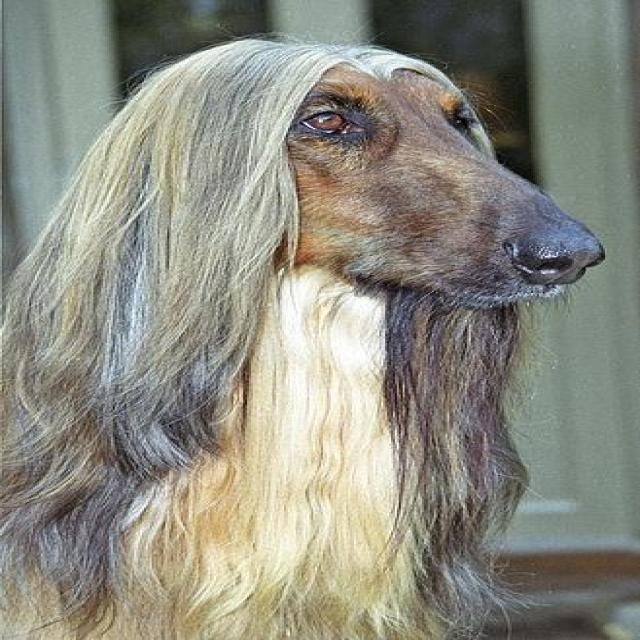afghan_hound: (0, 33, 613, 638)
